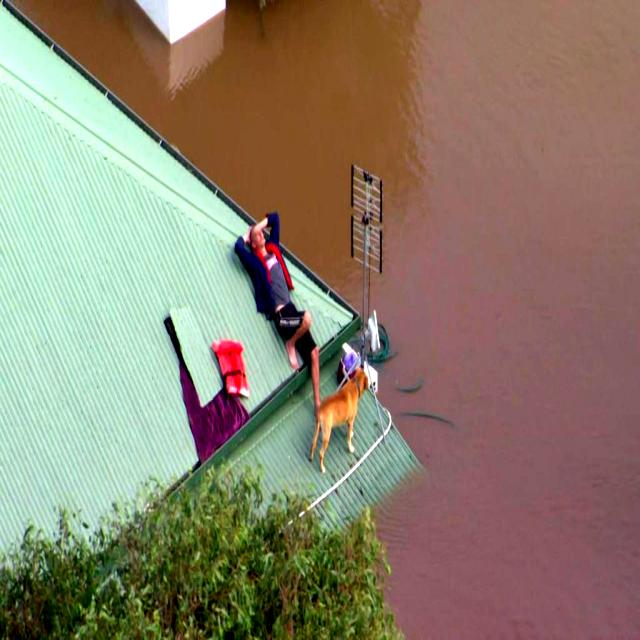civilian: (235, 203, 321, 396)
dog: (304, 359, 376, 477)
